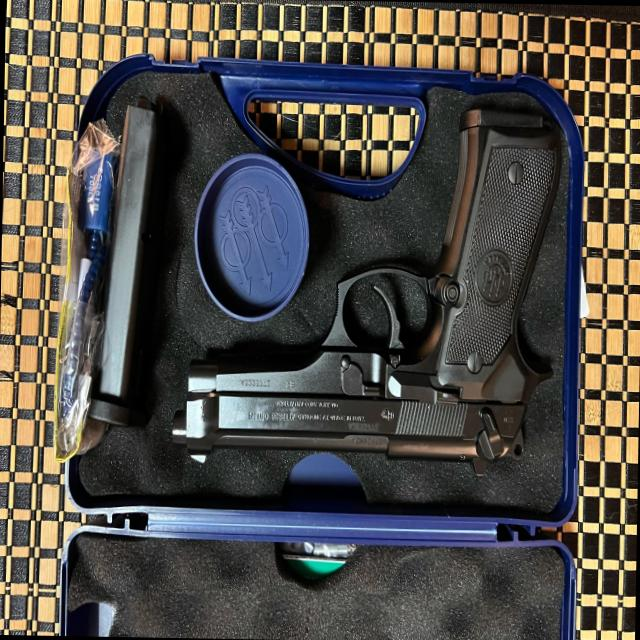Gun: (180, 92, 570, 488)
